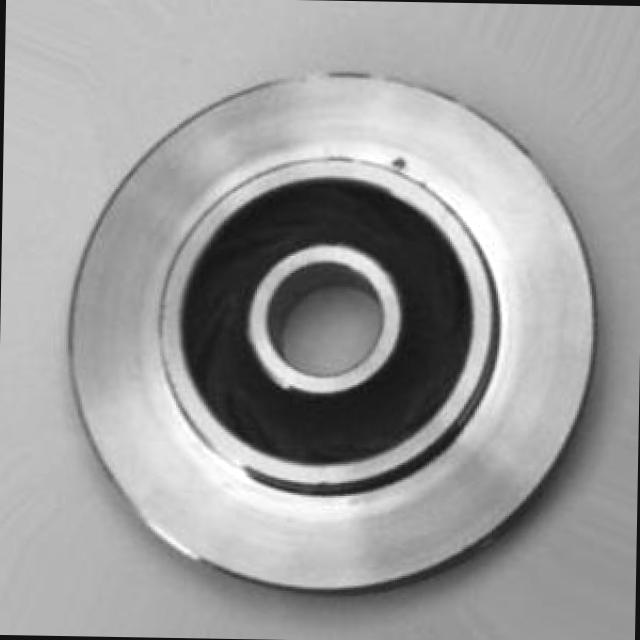Defect: (389, 149, 416, 181)
